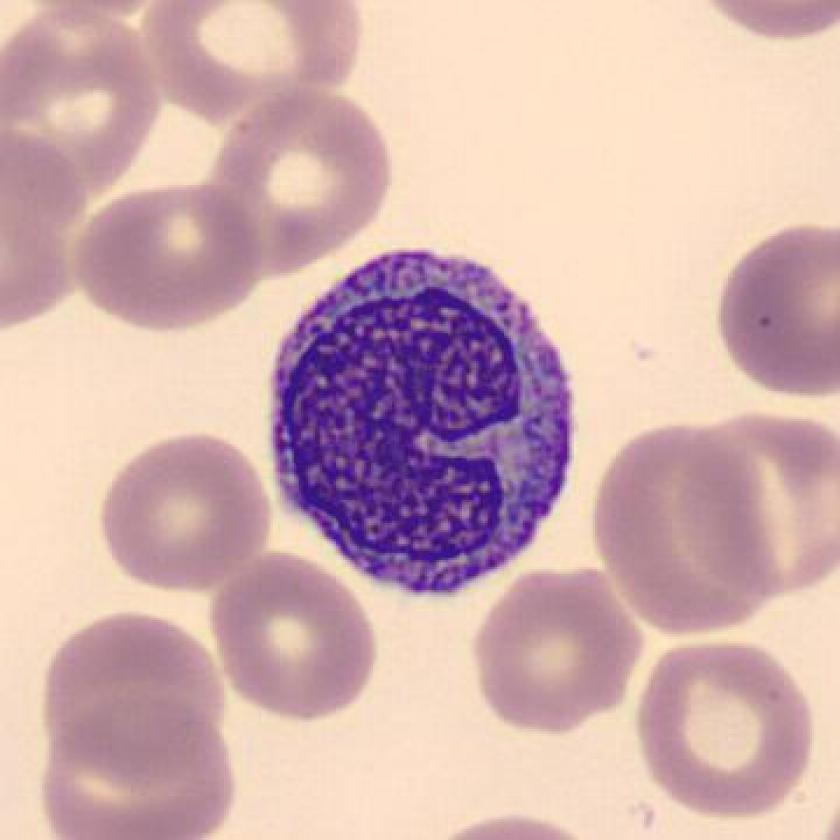monocyte: (255, 230, 594, 614)
